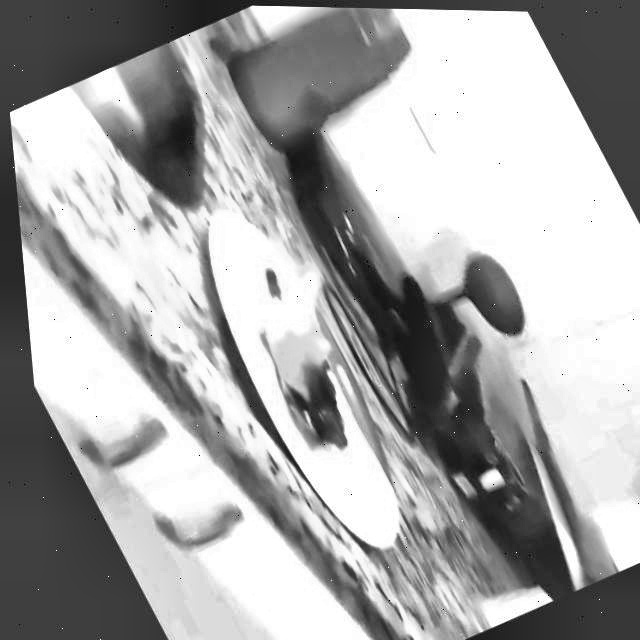Fire: (217, 254, 398, 465)
